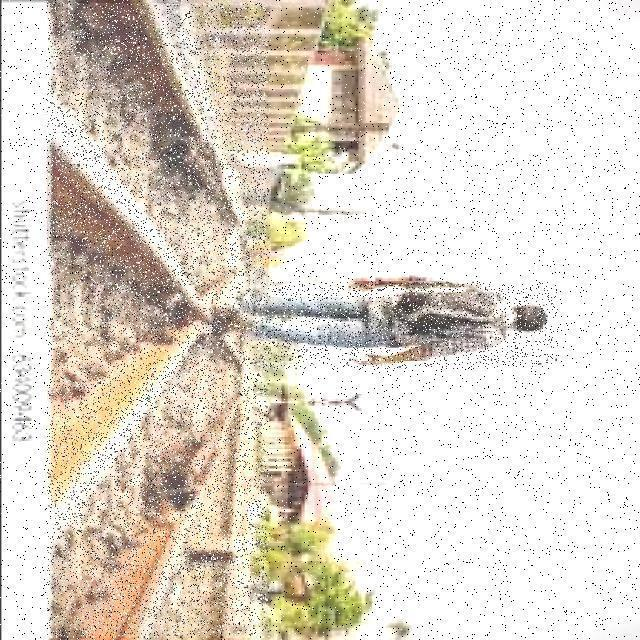rail: (49, 4, 267, 638)
